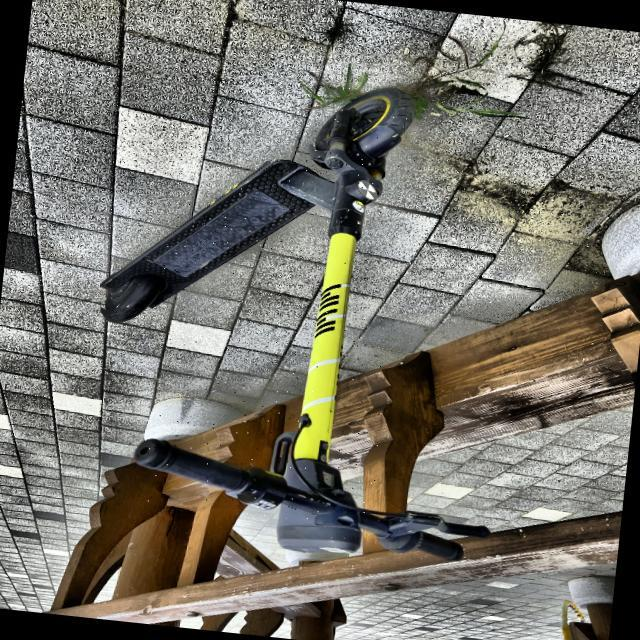bike: (73, 23, 640, 637), (43, 87, 501, 637)
